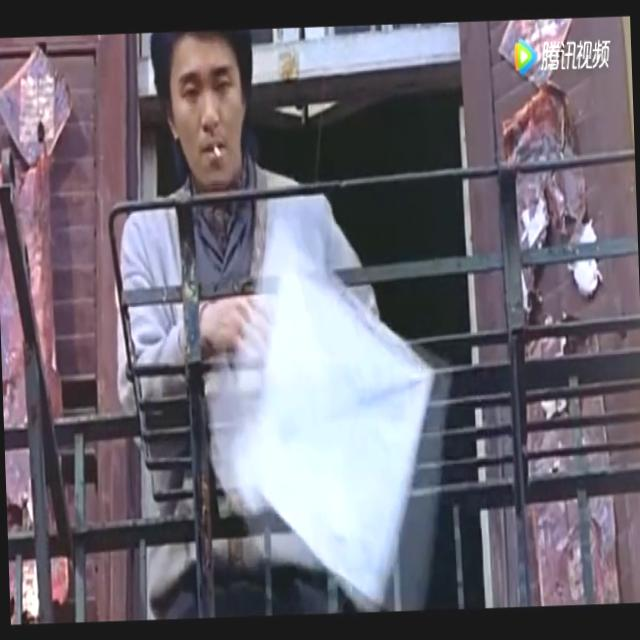cigarette: (210, 143, 223, 165)
